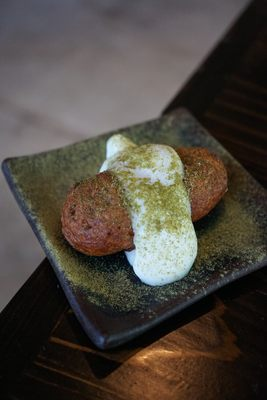curry: (0, 4, 265, 390)
